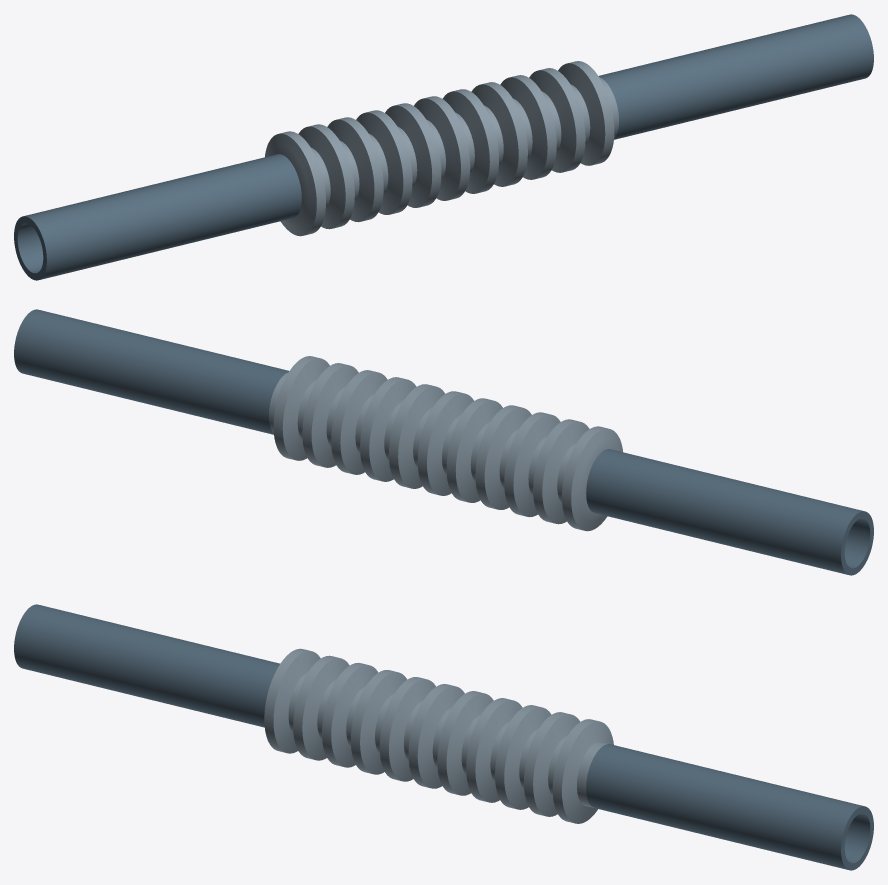
The model's file is silf-dn20-L390-D26_9.glb.
The picture shows the model from 3 angles, top to bottom: view 1: azimuth 30°, elevation 25°; view 2: azimuth 150°, elevation 25°; view 3: azimuth 330°, elevation 25°; orthographic projection.
Visible parts, largest first — view 1: prokladka_silfon_1, patrubok_1, patrubok_2; view 2: prokladka_silfon_1, patrubok_1, patrubok_2; view 3: prokladka_silfon_1, patrubok_2, patrubok_1.
Boxes of the visible parts, x1,y1,x2,y2 form: prokladka_silfon_1: (265, 61, 618, 236); patrubok_1: (14, 154, 301, 280); patrubok_2: (598, 14, 873, 139); prokladka_silfon_1: (269, 356, 622, 531); patrubok_1: (586, 449, 873, 575); patrubok_2: (14, 309, 289, 434); prokladka_silfon_1: (264, 648, 613, 823); patrubok_2: (586, 744, 873, 870); patrubok_1: (14, 604, 279, 727).
Bounding box in the file's own units: 390 × 42.9 × 42.9.
